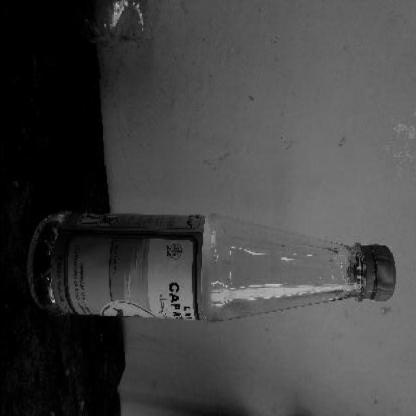plastic_bottles: (24, 209, 398, 324)
